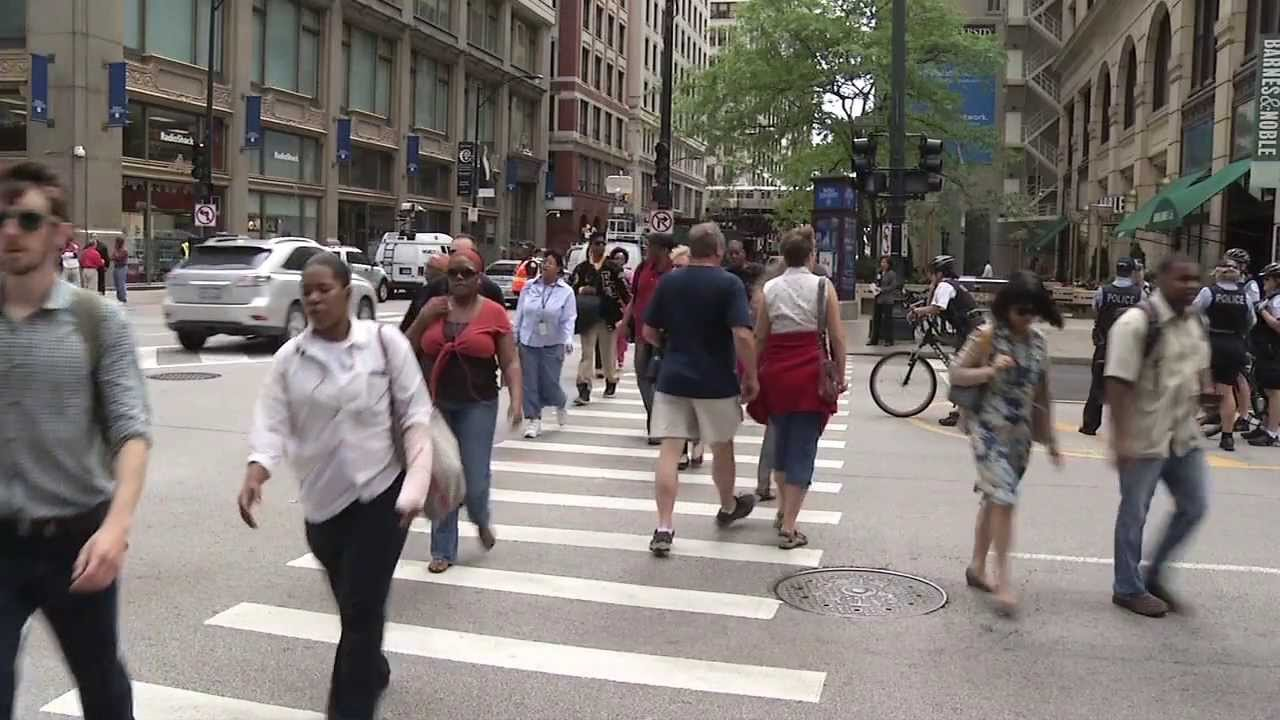pedestrian: (230, 248, 431, 720), (932, 263, 1073, 631), (1089, 248, 1215, 626), (627, 223, 768, 558), (400, 247, 510, 575), (752, 227, 854, 548), (511, 244, 580, 439), (565, 229, 619, 401)
